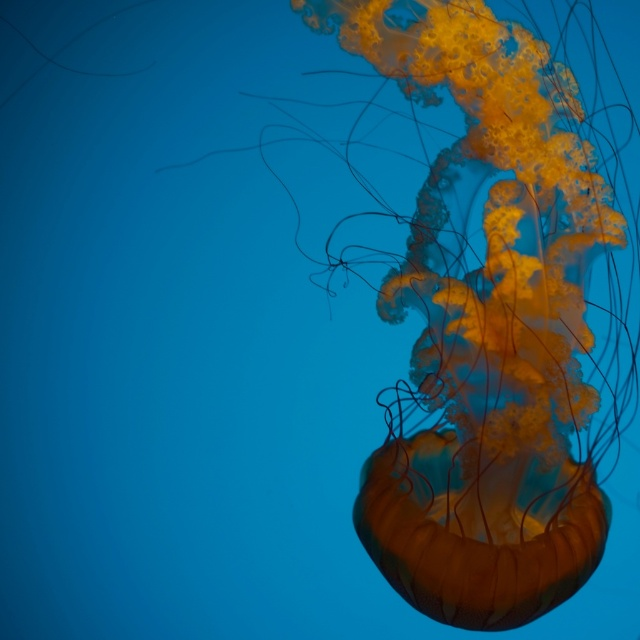Jellyfish: (154, 0, 640, 631)
